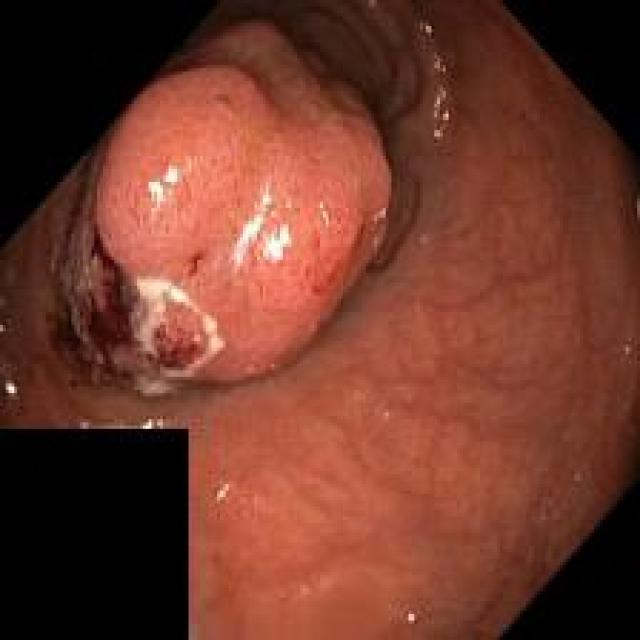Polyps: (55, 20, 391, 395)
